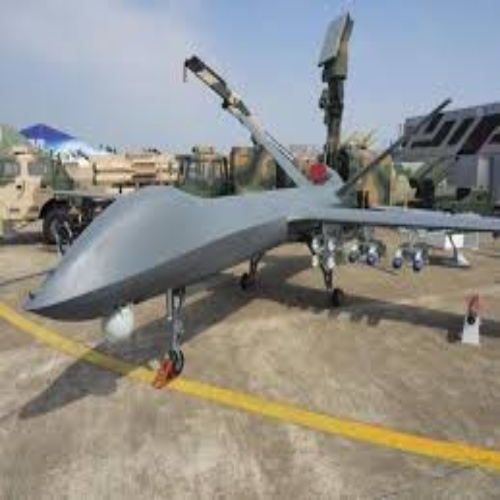uav411: (25, 55, 500, 373)
